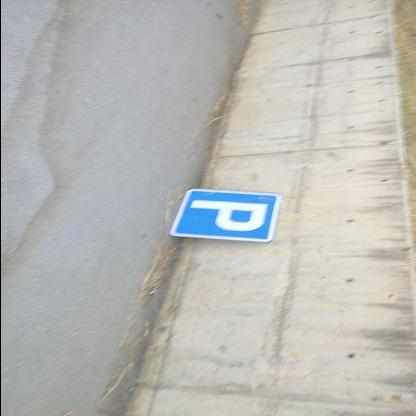Parking-Sign: (167, 189, 283, 245)
